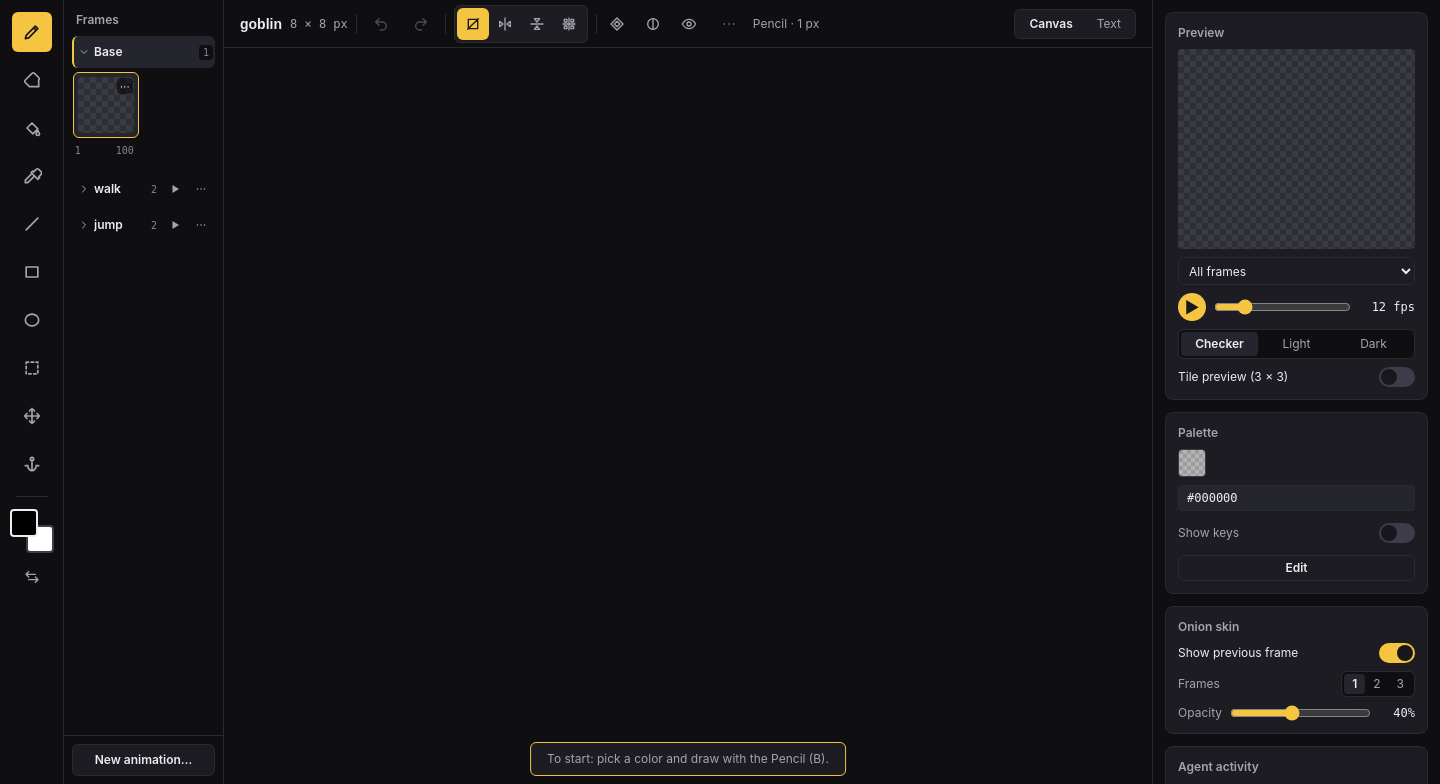
Test case: The frames strip in groups › chooses the animation with its play button
The width and height of the screenshot is (1440, 784).
What coordinates should you click on to do the following:
click the button named "Play jump"
I would click on:
 (175, 225)
Its box is x1=163 y1=213 x2=187 y2=237.
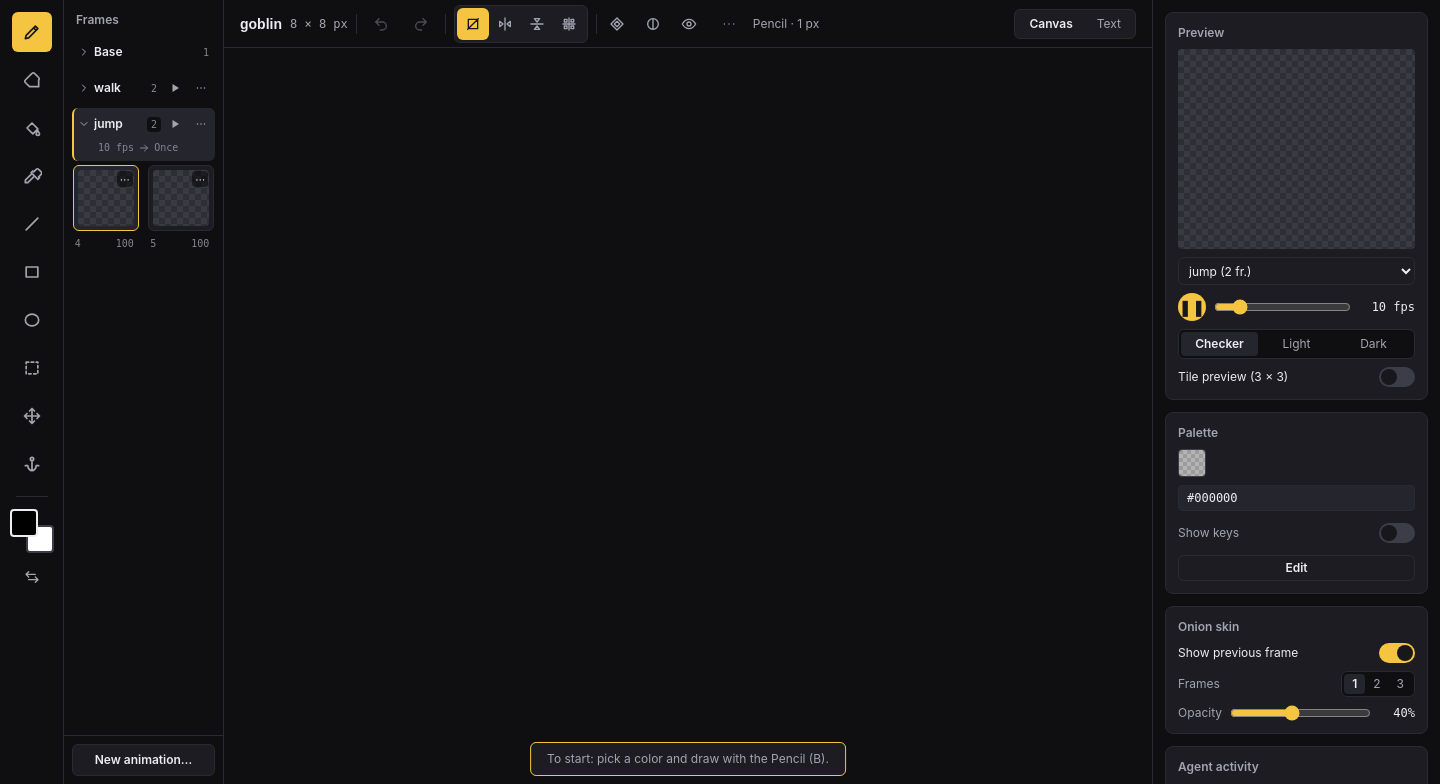
Now the dropdown named "Animation" shows "jump (2 fr.)", box x1=1178 y1=257 x2=1415 y2=285
